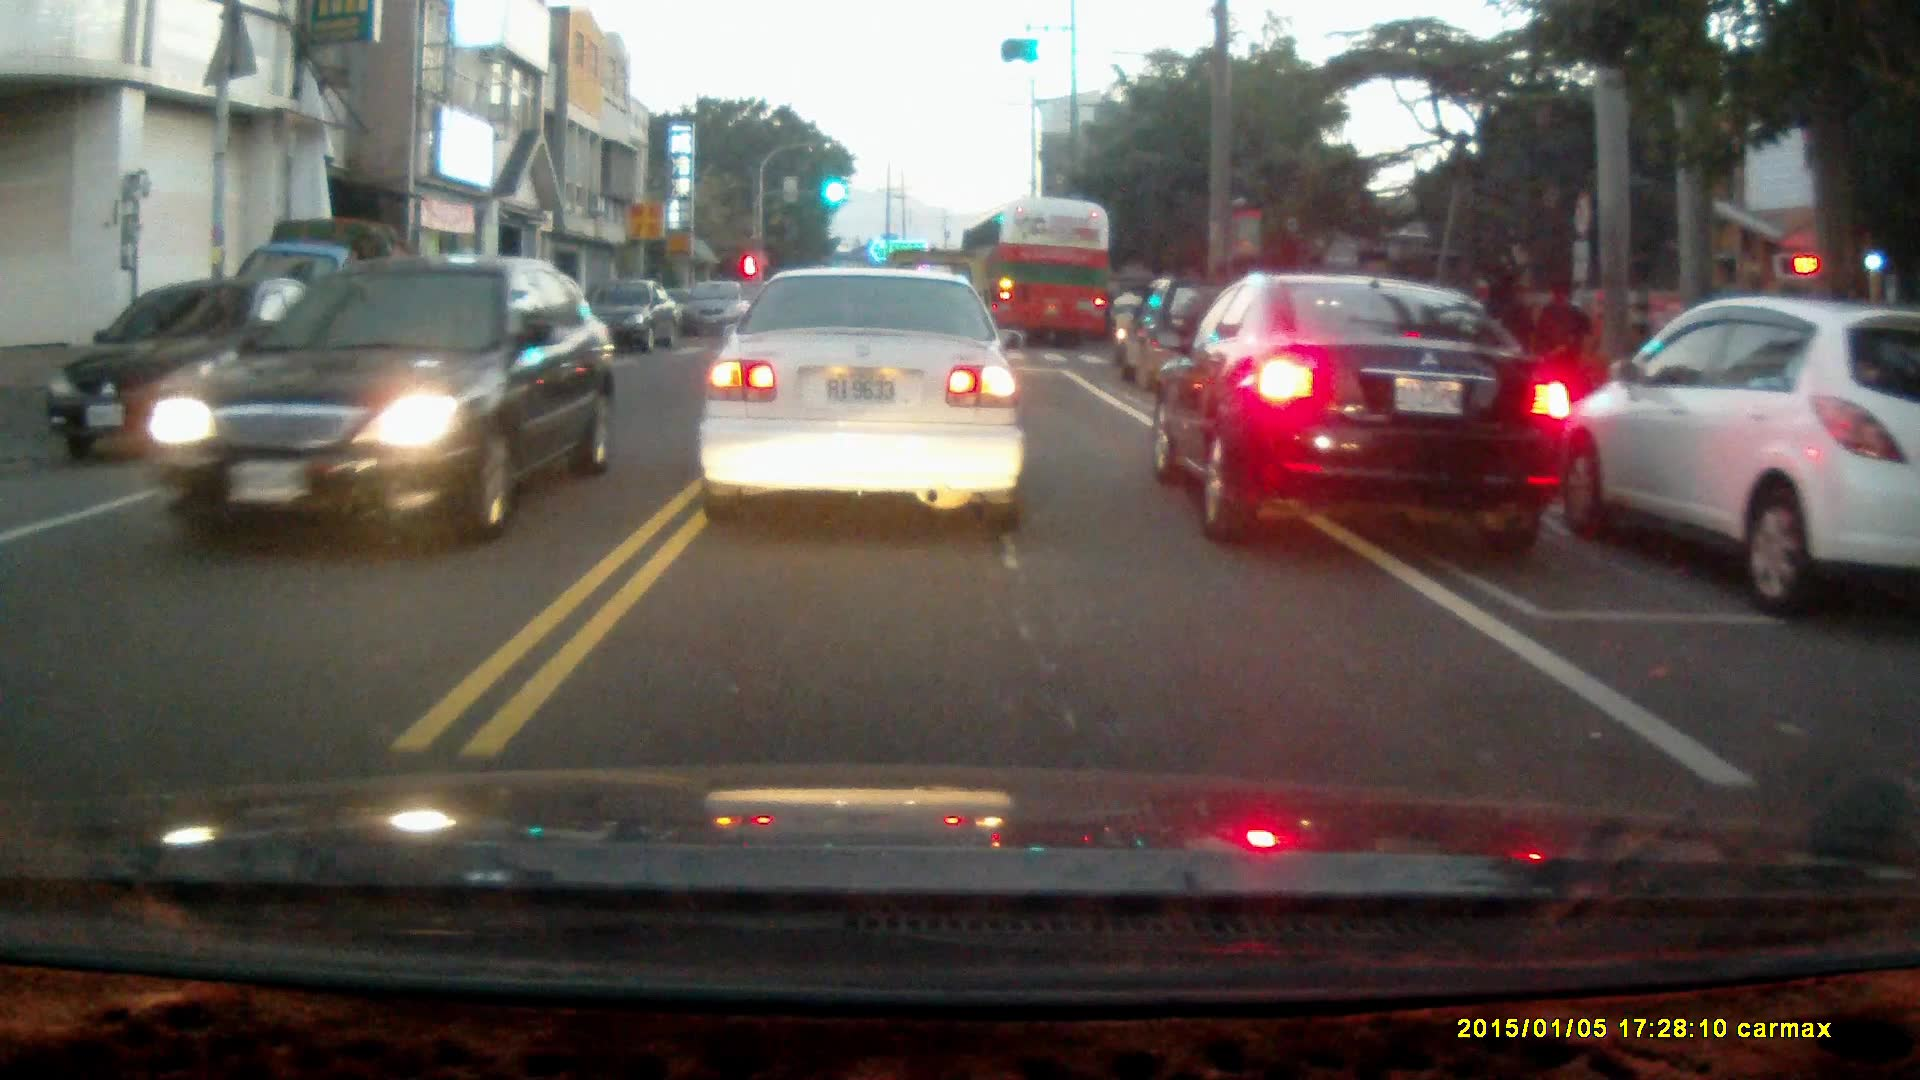pedestrian: (1533, 275, 1590, 414), (1479, 275, 1527, 413)
rider: (1108, 281, 1146, 360)
vehicle: (147, 255, 618, 550), (1543, 294, 1920, 623), (1151, 274, 1576, 551), (698, 263, 1028, 532), (51, 275, 364, 462), (218, 220, 448, 403), (962, 204, 1110, 355), (1118, 279, 1284, 399), (682, 282, 754, 340)
